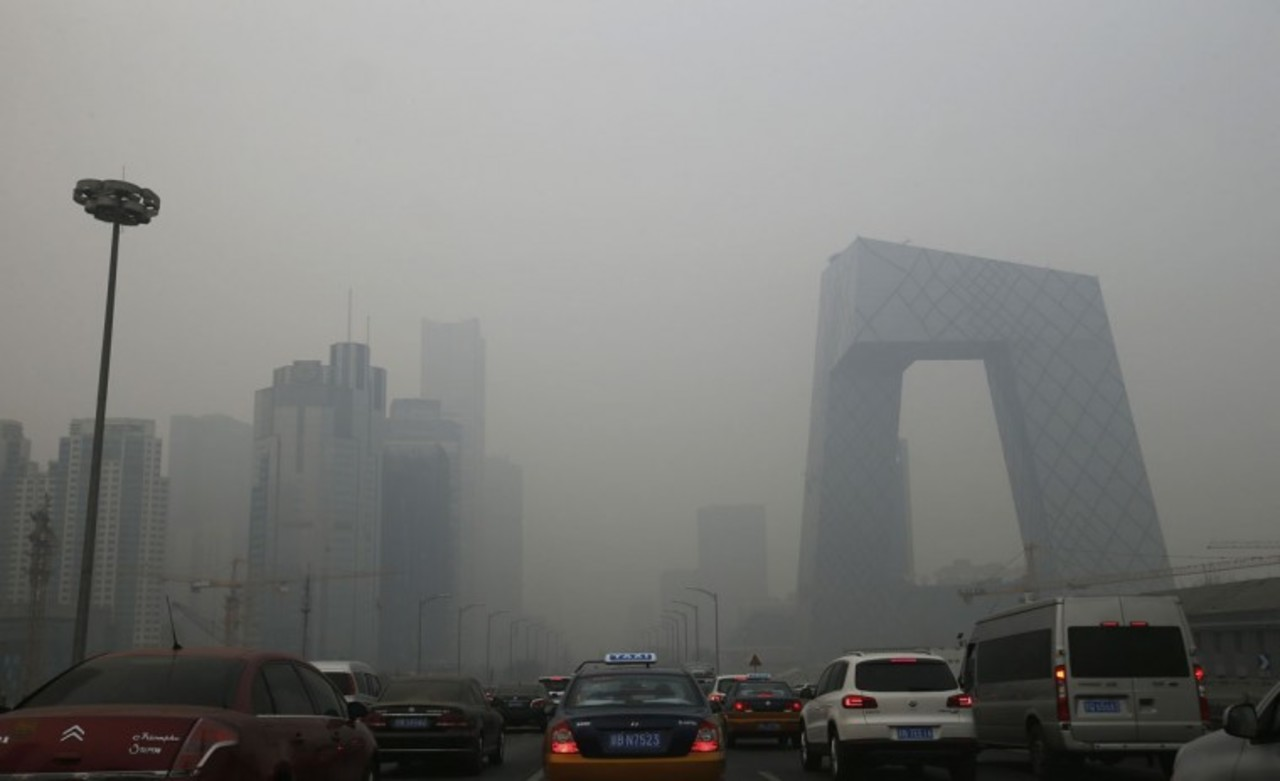car: (4, 644, 377, 780), (958, 593, 1212, 767), (795, 648, 977, 779), (536, 667, 728, 780), (369, 673, 505, 774), (1180, 656, 1271, 774), (713, 675, 807, 748), (487, 683, 557, 729)
